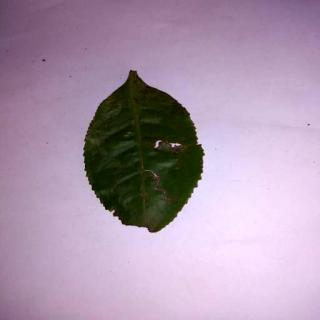Bird Eye Spot: (86, 69, 205, 234)
